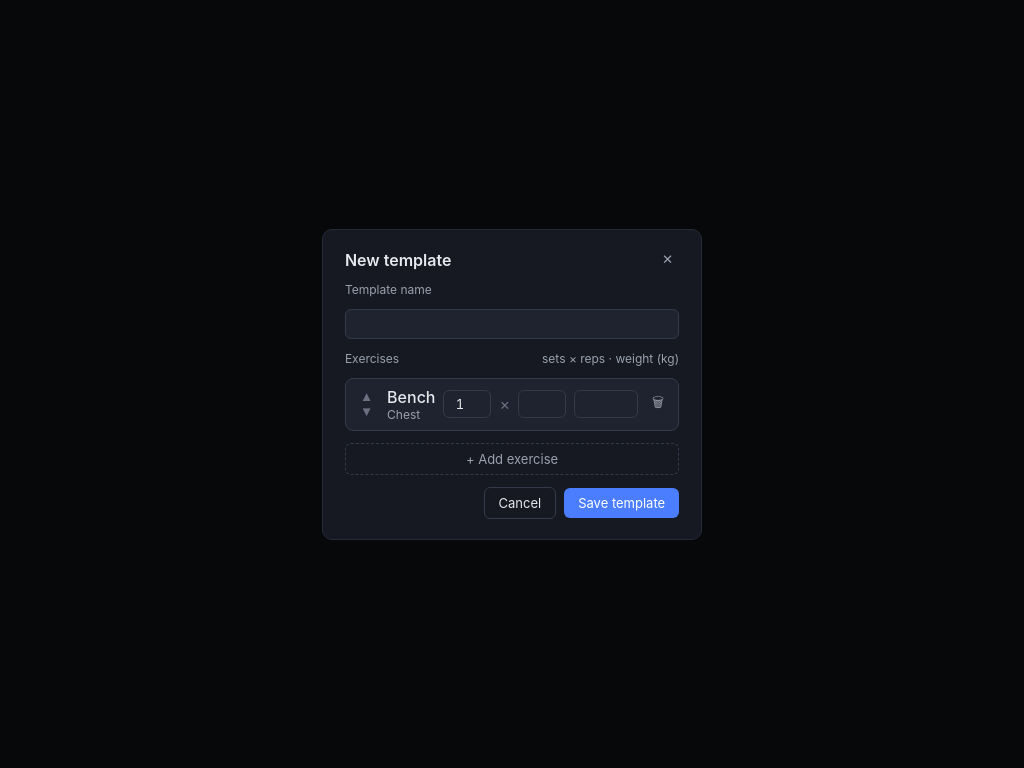
Test: TemplateFormModal › shows the nudge when the sets field is cleared (empty string)
Clear the number field with test id "row-sets" at (468, 404), box x1=444 y1=390 x2=492 y2=418
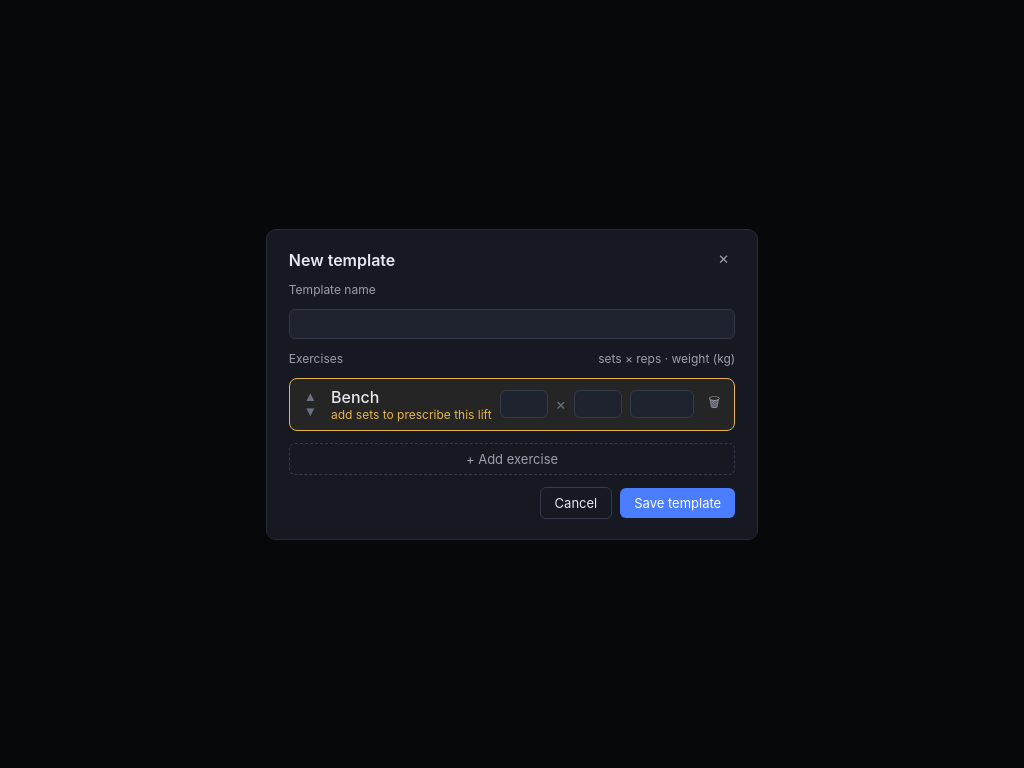
Expected: the text "add sets to prescribe this lift" is shown, x1=331 y1=406 x2=492 y2=422
